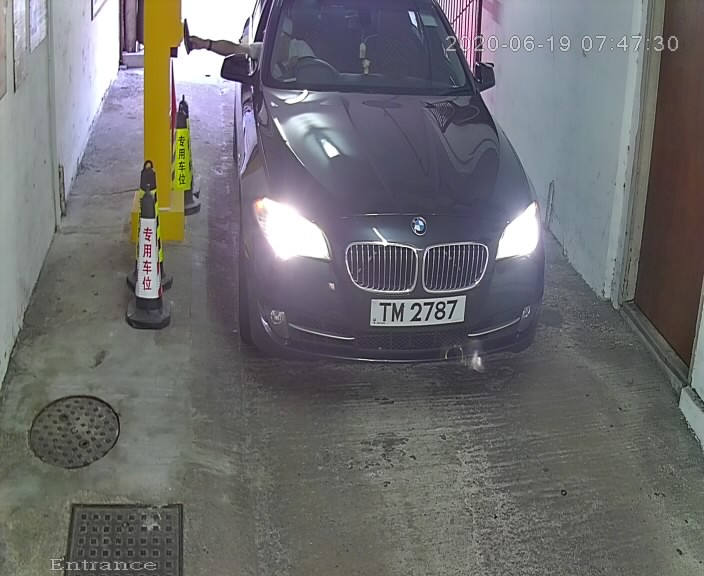privatecar: (215, 3, 559, 389)
